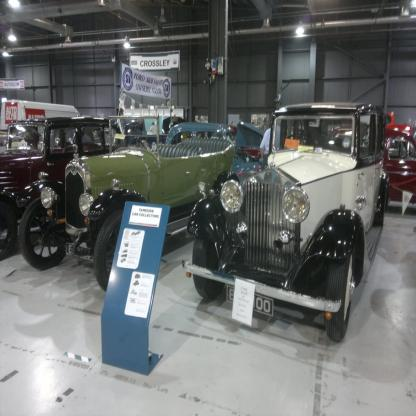Car: (1, 103, 416, 344), (185, 102, 392, 352), (14, 113, 244, 292), (1, 118, 135, 260), (164, 122, 265, 183), (383, 117, 416, 206), (231, 127, 269, 162), (107, 117, 149, 142)
